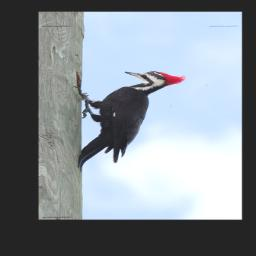Woodpecker: (73, 70, 186, 171)
